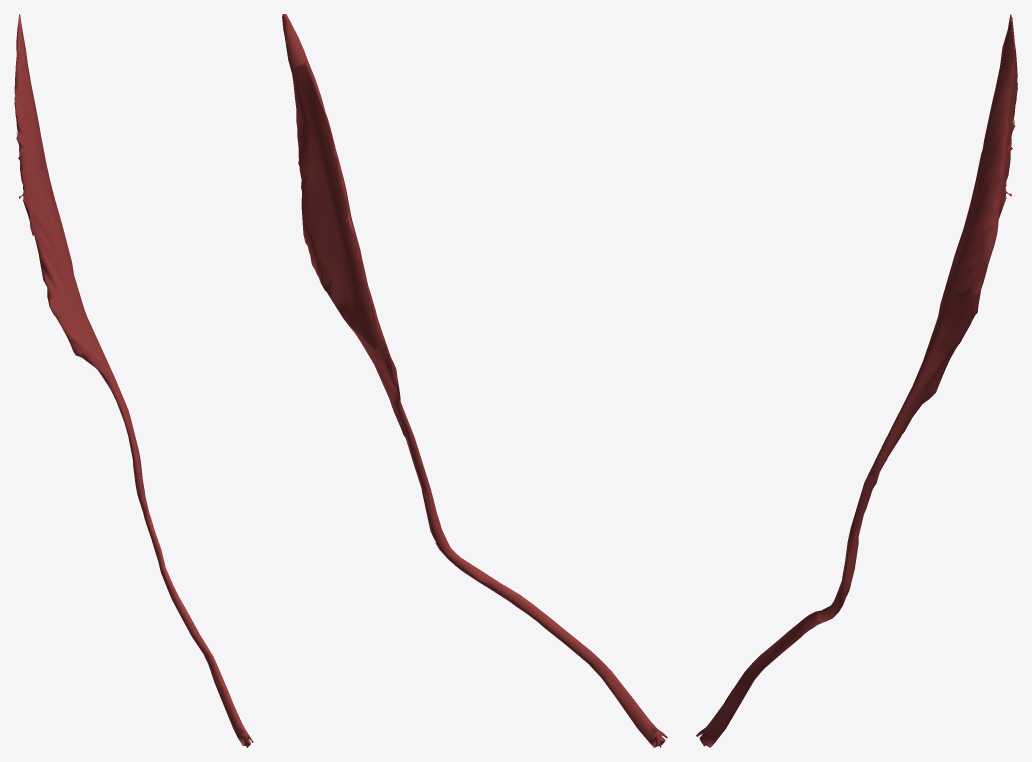
Rendered from flexor-pollicis-longus-r.glb.
3 views of the same model, side by side, from view 1: azimuth 90°, elevation 25°; view 2: azimuth 150°, elevation 25°; view 3: azimuth 270°, elevation 25° (orthographic). The views are drawn at different scales.
Visible parts, largest first — view 1: Flexor pollicis longus.r; view 2: Flexor pollicis longus.r; view 3: Flexor pollicis longus.r.
Boxes of the visible parts, bbox=[...] form: Flexor pollicis longus.r: bbox=[14, 14, 253, 747]; Flexor pollicis longus.r: bbox=[282, 14, 667, 747]; Flexor pollicis longus.r: bbox=[696, 14, 1017, 747].
Bounding box in the file's own units: 0.0781 × 0.2381 × 0.0808.
